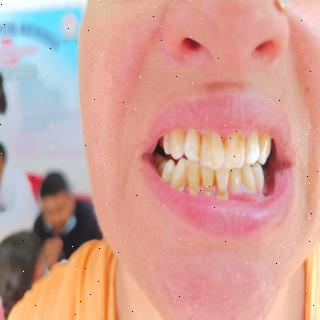Gum Swelling: (239, 183, 259, 201)
calculus: (213, 185, 239, 204), (177, 177, 194, 197)
stains: (194, 167, 208, 190), (208, 168, 222, 191)
